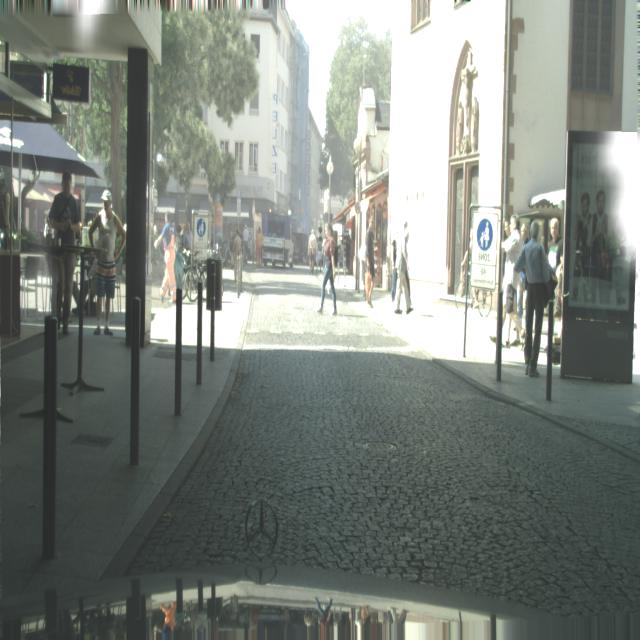car: (455, 251, 493, 319), (183, 252, 203, 301)
person: (512, 218, 557, 378), (48, 171, 82, 336), (88, 191, 126, 336), (501, 214, 523, 348), (315, 224, 338, 315), (393, 219, 414, 314), (155, 214, 177, 302), (363, 218, 376, 308), (391, 224, 405, 306), (232, 226, 243, 298), (308, 228, 317, 274)
rider: (258, 209, 295, 270)
